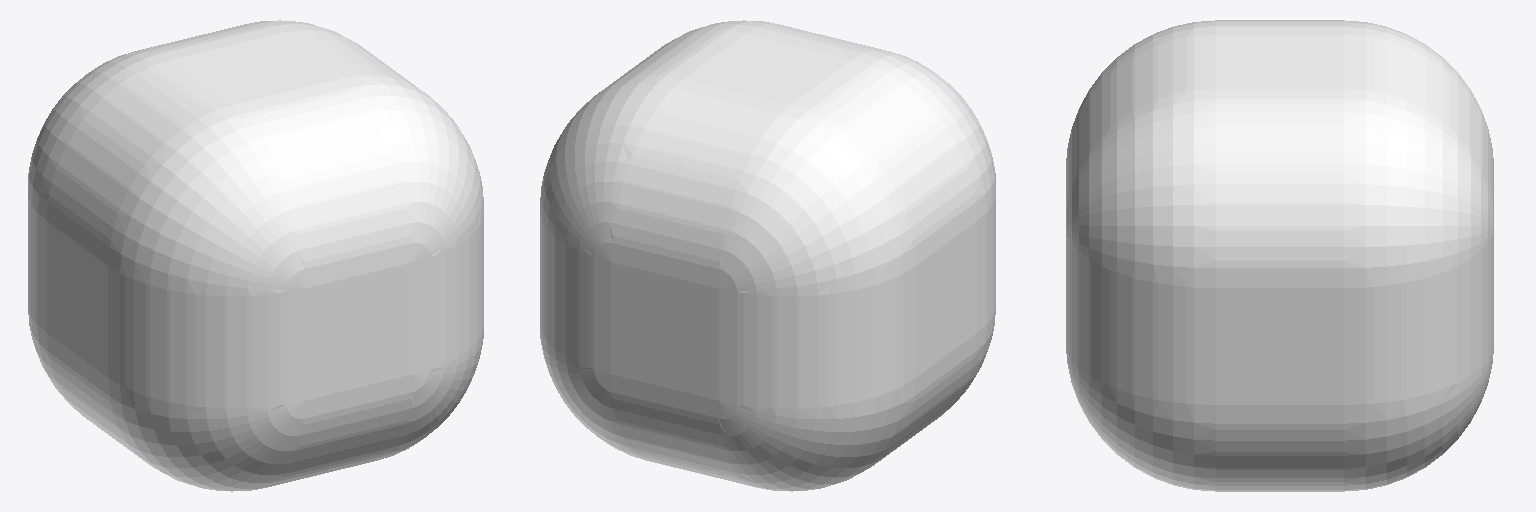
The robot description file, URDF, robot "object":
<?xml version="1.0" encoding="utf-8"?>
<!-- This URDF was automatically created by SolidWorks to URDF Exporter! Originally created by [author] ([email redacted]) 
     Commit Version: 1.5.1-0-g916b5db  Build Version: 1.5.7152.31018
     For more information, please see http://wiki.ros.org/sw_urdf_exporter -->
<robot
  name="object">
  <link
    name="object">
    <inertial>
      <origin
        xyz="7.0013E-18 4.55470635382238E-18 0.02"
        rpy="0 0 0" />
      <mass
        value="0.047485" />
      <inertia
        ixx="9.7035E-06"
        ixy="3.6189E-22"
        ixz="2.5849E-23"
        iyy="9.7035E-06"
        iyz="-2.5849E-23"
        izz="9.7035E-06" />
    </inertial>
    <visual>
      <origin
        xyz="0 0 0"
        rpy="1.5707963267949 0 0" />
      <geometry>
        <mesh
          filename="package://rocr/meshes/object_blue.STL" />
      </geometry>
      <material
        name="">
        <color
          rgba="1 1 1 1" />
        <texture
          filename="package://rocr/textures/" />
      </material>
    </visual>
    <collision>
      <origin
        xyz="0 0 0"
        rpy="1.5707963267949 0 0" />
      <geometry>
        <mesh
          filename="package://rocr/meshes/object_blue.STL" />
      </geometry>
    </collision>
  </link>
  <gazebo reference="object">
    <material>Gazebo/Blue</material>
  </gazebo>
</robot>

--- What the picture shows (computed from the rendered views, not written in the file) ---
The picture shows the robot from 3 angles, left to right: view 1: azimuth 30°, elevation 25°; view 2: azimuth 150°, elevation 25°; view 3: azimuth 270°, elevation 25°; orthographic projection.
Robot: object — 1 links, 0 joints (none); root link object; default pose: all joints at 0.
Links seen in each view (by area): view 1: object; view 2: object; view 3: object.
Link boxes in pixels (x1,y1,x2,y2): object: [28, 20, 483, 491]; object: [540, 20, 995, 491]; object: [1066, 20, 1493, 491].
Bounding box of the posed robot: 0.04 × 0.04 × 0.04 m (x, y, z).
Meshes: 1 distinct files referenced, 1 mesh visuals loaded (1 binary STL).